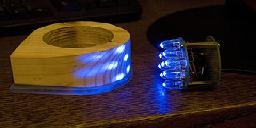LED: (154, 37, 189, 89)
